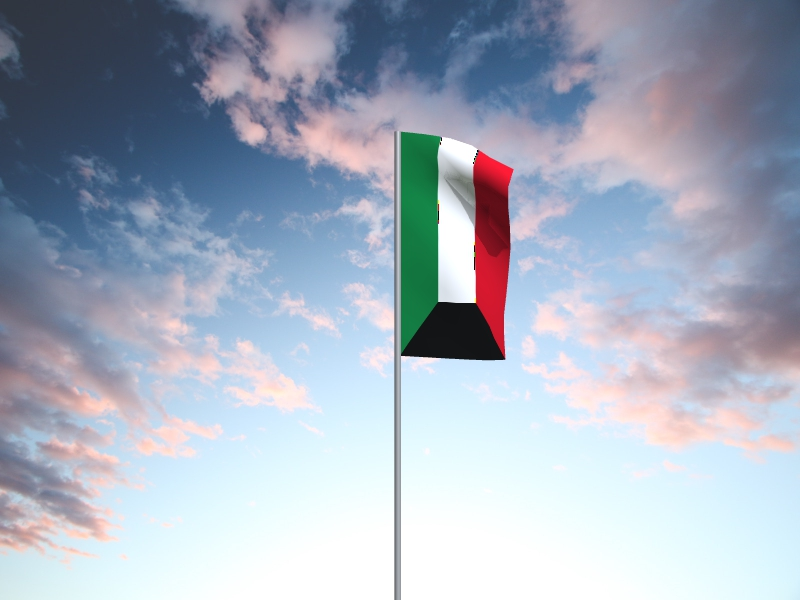kw: (402, 132, 515, 362)
